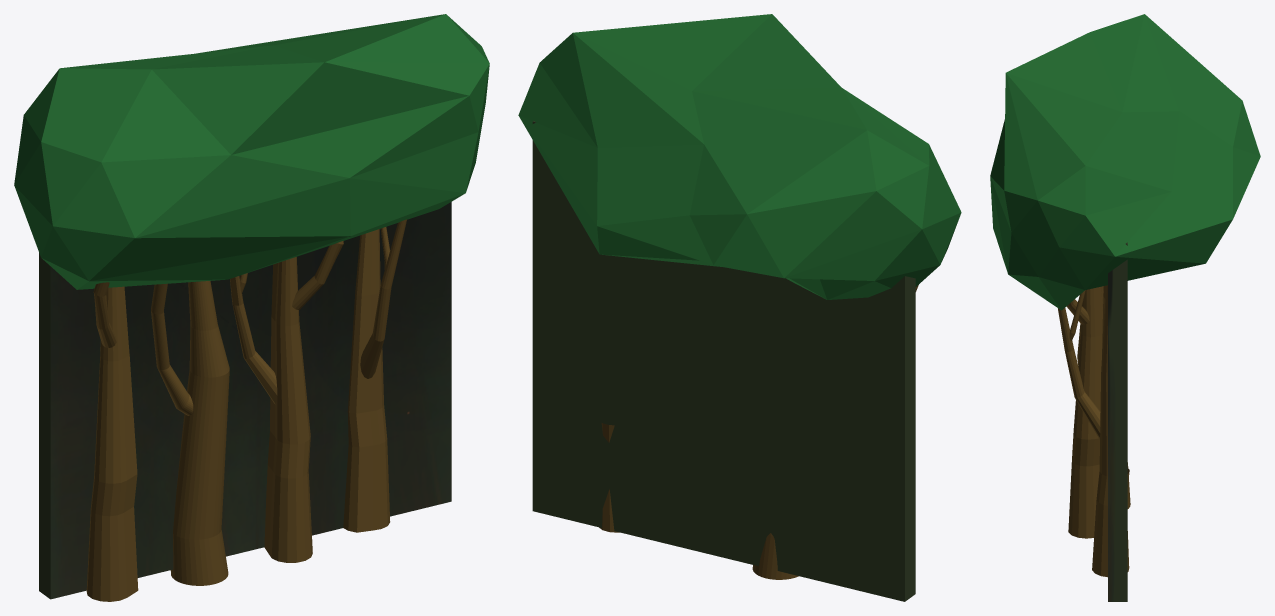
Rendered from tree-border.glb.
The picture shows the model from 3 angles, left to right: view 1: azimuth 30°, elevation 25°; view 2: azimuth 150°, elevation 25°; view 3: azimuth 270°, elevation 25°; orthographic projection. The views are drawn at different scales.
Parts seen in each view (by area): view 1: Icosphere, Cube, Cylinder; view 2: Cube, Icosphere, Cylinder; view 3: Icosphere, Cylinder, Cube.
Part boxes in pixels (x1,y1,x2,y2): Icosphere: (14,14,489,289); Cube: (39,202,451,599); Cylinder: (86,219,406,601); Cube: (532,121,915,601); Icosphere: (518,14,961,299); Cylinder: (599,285,918,579); Icosphere: (990,14,1260,310); Cylinder: (1058,285,1130,577); Cube: (1108,242,1127,601).
Bounding box in the file's own units: 11.15 × 12.83 × 6.84.
Materials: 3 (1 with a texture image).
